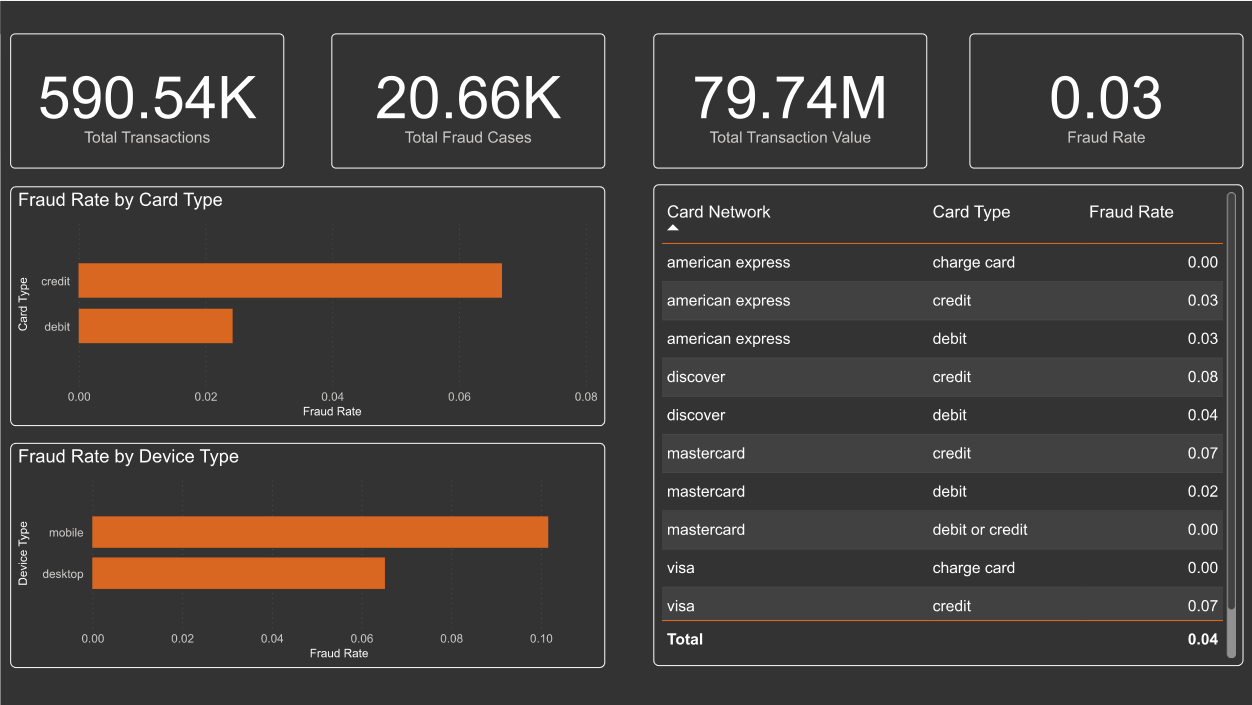

The dashboard page shown, as its layout file describes it:
{"tool":"powerbi","page":{"name":"Risk Drill-Down","canvas":[1280,720],"ordinal":1},"visuals":[{"type":"card","fields":{"Values":["CountNonNull(fact_transactions.TransactionID)"]},"box":[10.4,32.6,280.1,138.9],"z":0},{"type":"card","fields":{"Values":["Sum(fact_transactions.isFraud)"]},"box":[337.9,32.6,280.1,138.9],"z":1000},{"type":"card","fields":{"Values":["Sum(fact_transactions.TransactionAmt)"]},"box":[666.6,32.6,280.1,138.9],"z":2000},{"type":"card","fields":{"Values":["Avg(fact_transactions.isFraud)"]},"box":[989.5,32.6,280.1,138.9],"z":3000},{"type":"clusteredBarChart","fields":{"Y":["Avg(fact_transactions.isFraud)"],"Category":["fact_transactions.card6"]},"box":[10.4,188.6,607.6,245.4],"z":4000},{"type":"tableEx","fields":{"Values":["fact_transactions.card4","fact_transactions.card6","Avg(fact_transactions.isFraud)"]},"box":[666.6,187.5,603,491.9],"z":5000},{"type":"clusteredBarChart","fields":{"Category":["dim_device.DeviceType"],"Y":["Avg(fact_transactions.isFraud)"]},"box":[10.4,451.4,607.6,229.2],"z":6000}]}

Visuals, with their boxes in screenshot pixels (x1, y1, x2, y2), scaled from the page's 1280x720 canvas onto the 1252x705 screenshot:
card - CountNonNull(fact_transactions.TransactionID): box=[10, 32, 284, 168]
card - Sum(fact_transactions.isFraud): box=[331, 32, 604, 168]
card - Sum(fact_transactions.TransactionAmt): box=[652, 32, 926, 168]
card - Avg(fact_transactions.isFraud): box=[968, 32, 1242, 168]
clusteredBarChart - Avg(fact_transactions.isFraud) x fact_transactions.card6: box=[10, 185, 604, 425]
tableEx - fact_transactions.card4 x fact_transactions.card6: box=[652, 184, 1242, 665]
clusteredBarChart - dim_device.DeviceType x Avg(fact_transactions.isFraud): box=[10, 442, 604, 666]
